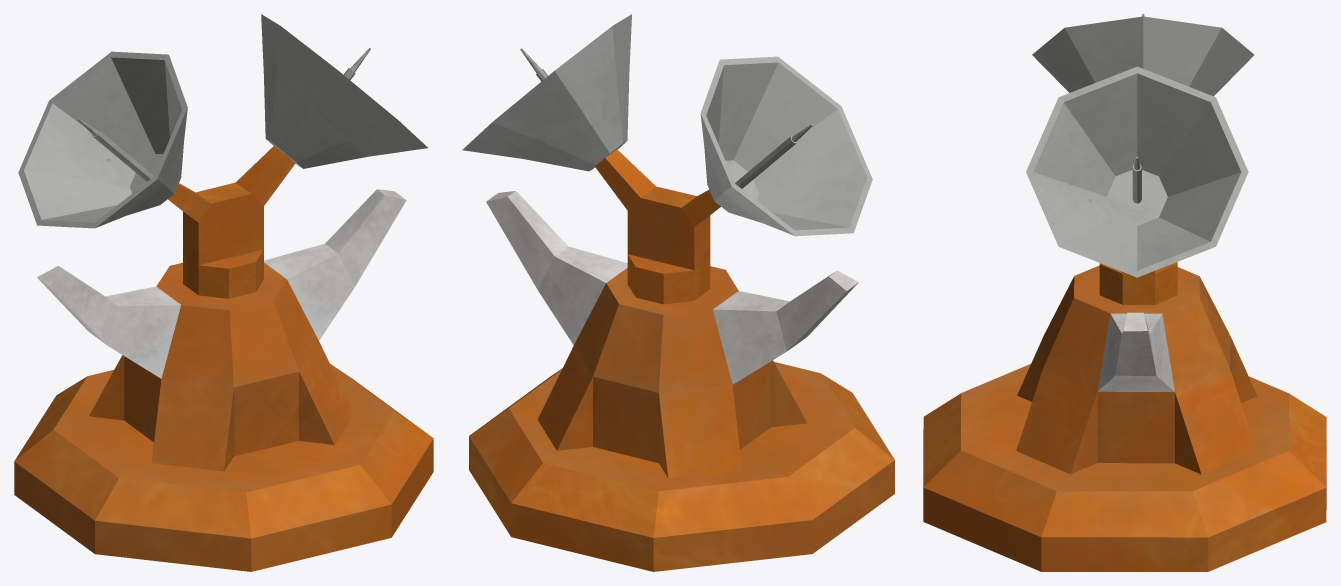
File: TorreRadarAMAST2.fbx
The picture shows the model from 3 angles, left to right: view 1: azimuth 30°, elevation 25°; view 2: azimuth 150°, elevation 25°; view 3: azimuth 270°, elevation 25°; orthographic projection. The views are drawn at different scales.
Parts seen in each view (by area): view 1: Base, Torre; view 2: Base, Torre; view 3: Base, Torre.
Part boxes in pixels (x1=…): Base: x1=14, y1=189, x2=433, y2=571; Torre: x1=18, y1=14, x2=427, y2=298; Base: x1=469, y1=191, x2=894, y2=571; Torre: x1=462, y1=14, x2=872, y2=304; Base: x1=923, y1=265, x2=1326, y2=571; Torre: x1=1026, y1=14, x2=1254, y2=304.
Size of the model in its own units: 2.9 by 3.29 by 2.66.
